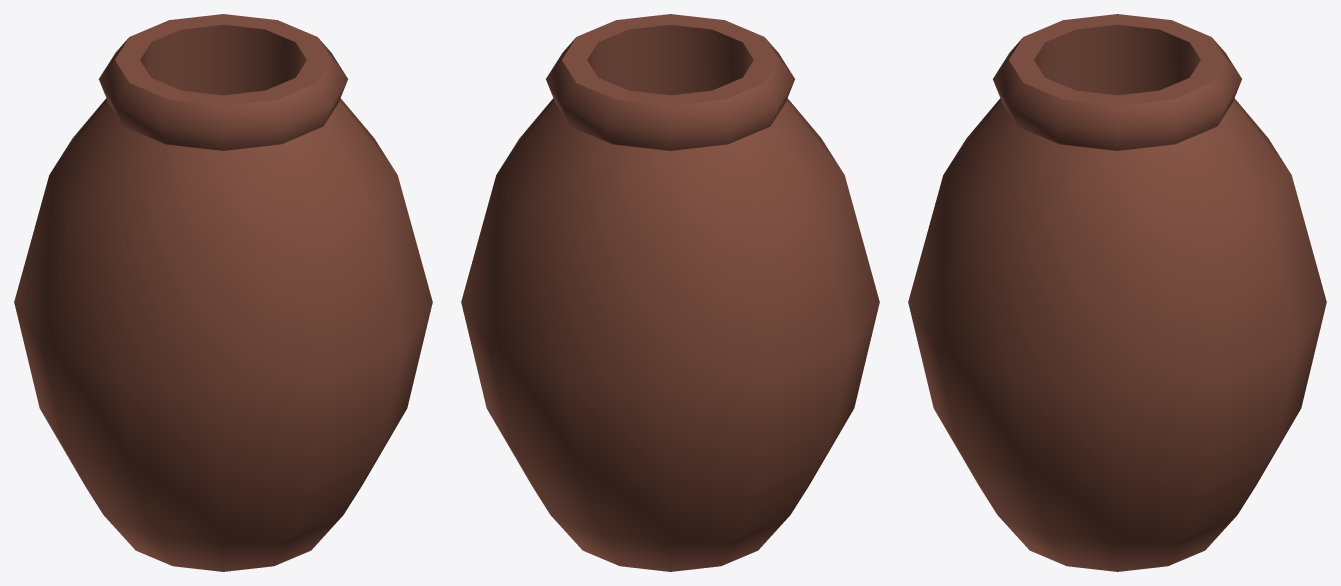
File: Pot_Brown_B.fbx
3 renders of one model, left to right at view 1: azimuth 30°, elevation 25°; view 2: azimuth 150°, elevation 25°; view 3: azimuth 270°, elevation 25°, orthographic.
Visible parts, largest first — view 1: Pot_Brown_B; view 2: Pot_Brown_B; view 3: Pot_Brown_B.
Boxes of the visible parts, left/top/right/bottom form: Pot_Brown_B: left=14, top=14, right=432, bottom=571; Pot_Brown_B: left=461, top=14, right=879, bottom=571; Pot_Brown_B: left=908, top=14, right=1326, bottom=571.
Size of the model in its own units: 58.84 by 72.76 by 58.84.
